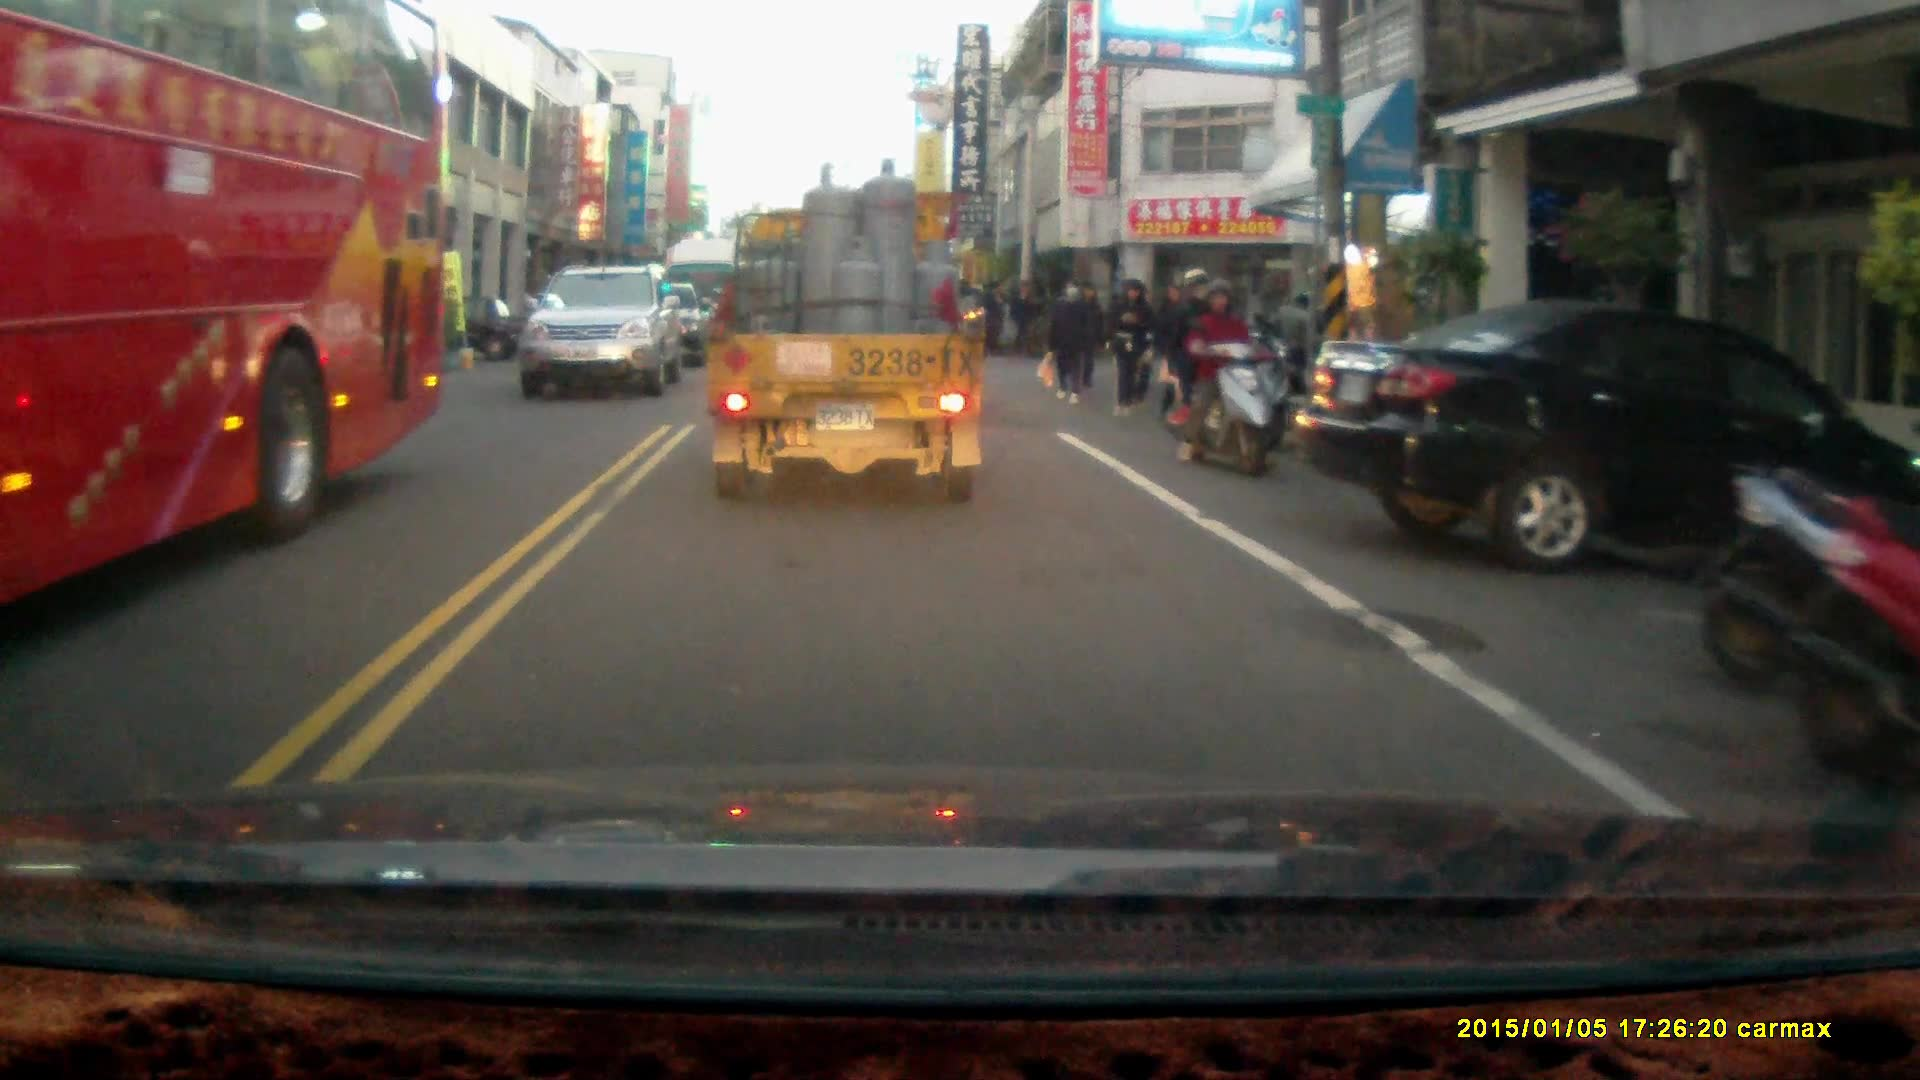pedestrian: (1152, 278, 1201, 416), (1112, 273, 1153, 415), (1044, 275, 1089, 404), (1007, 274, 1037, 359), (980, 276, 1008, 359)
rider: (1161, 264, 1267, 471)
vehicle: (1, 7, 450, 606), (1303, 302, 1920, 573), (709, 157, 992, 505), (515, 266, 681, 407)
